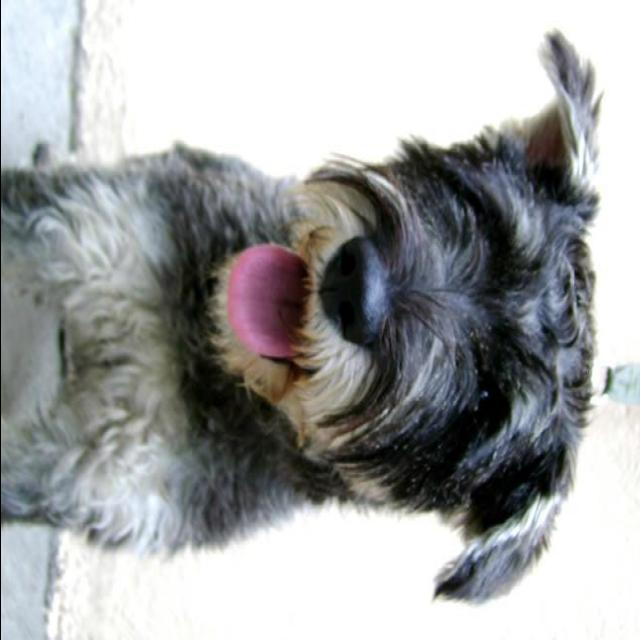standard_schnauzer: (2, 28, 610, 610)
